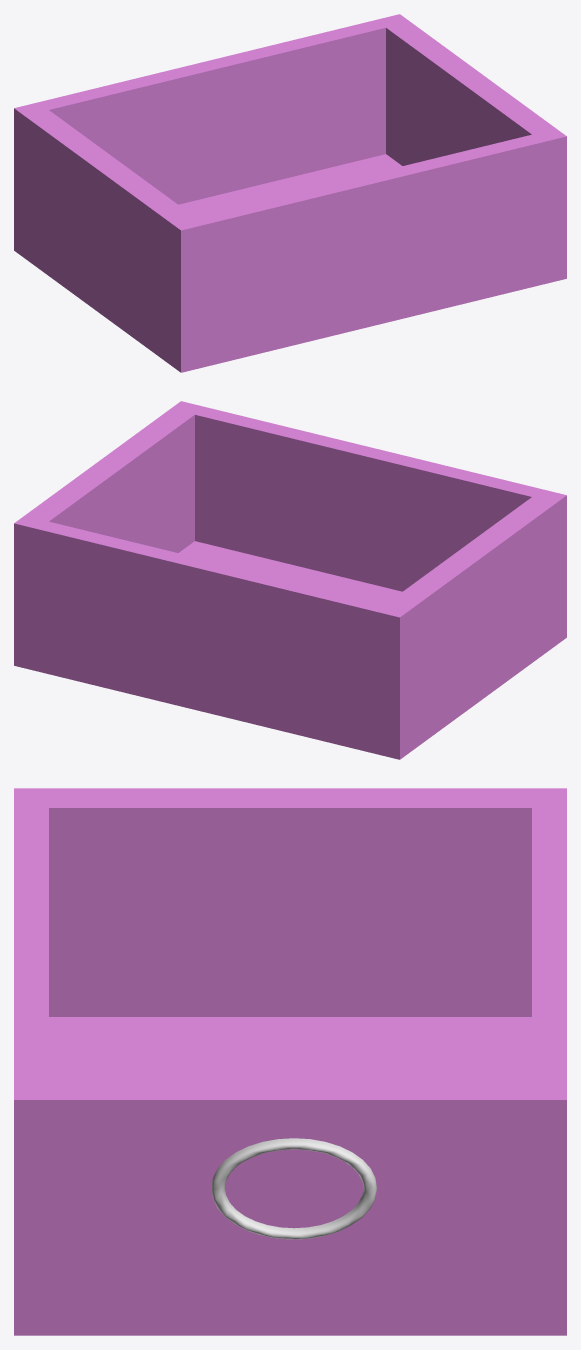
File: vanity bottom drawer.fbx
3 views of the same model, one above another, from view 1: azimuth 30°, elevation 25°; view 2: azimuth 150°, elevation 25°; view 3: azimuth 270°, elevation 25° (orthographic). The views are drawn at different scales.
Parts seen in each view (by area): view 1: Cube.005; view 2: Cube.005; view 3: Cube.005.
Part boxes in pixels (x1,y1,x2,y2): Cube.005: [14, 14, 566, 372]; Cube.005: [14, 401, 566, 759]; Cube.005: [14, 788, 566, 1335].
Size of the model in its own units: 40.68 by 14.1 by 30.
